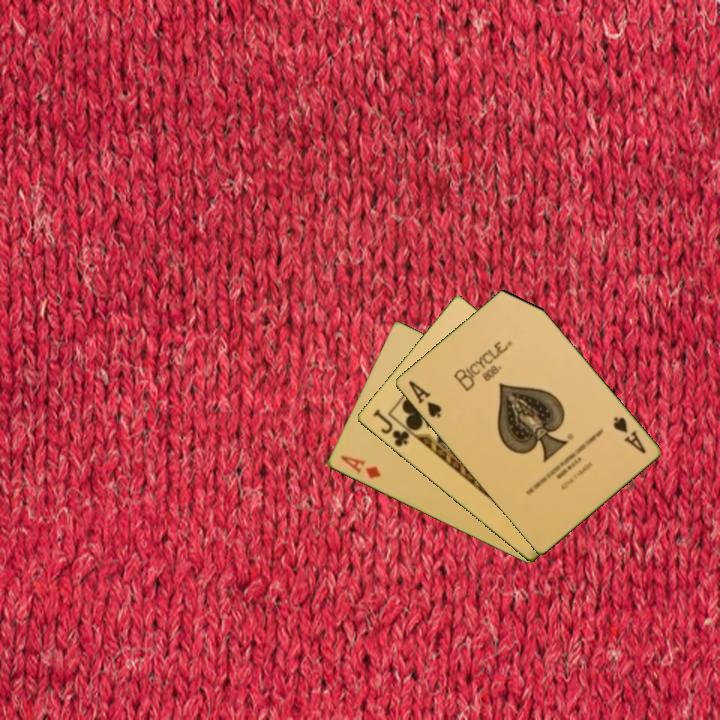Ad: (336, 452, 384, 481)
As: (405, 377, 444, 421), (609, 413, 648, 457)
Jc: (369, 406, 412, 450)
